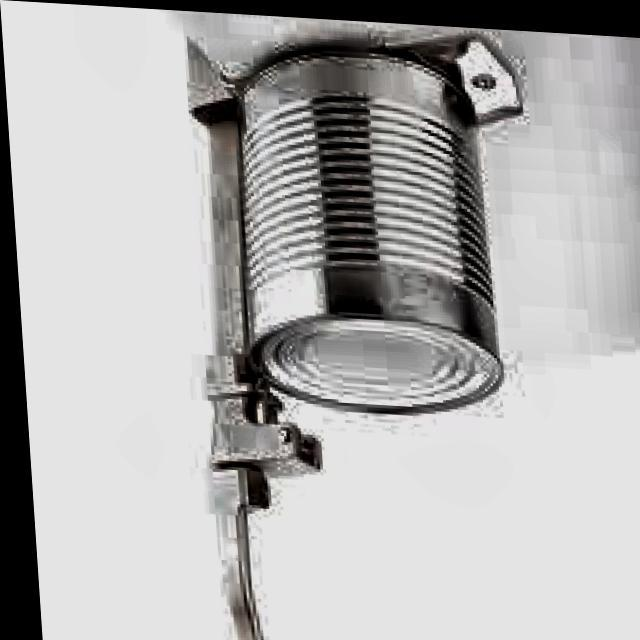Aluminum Can: (219, 38, 512, 422)
